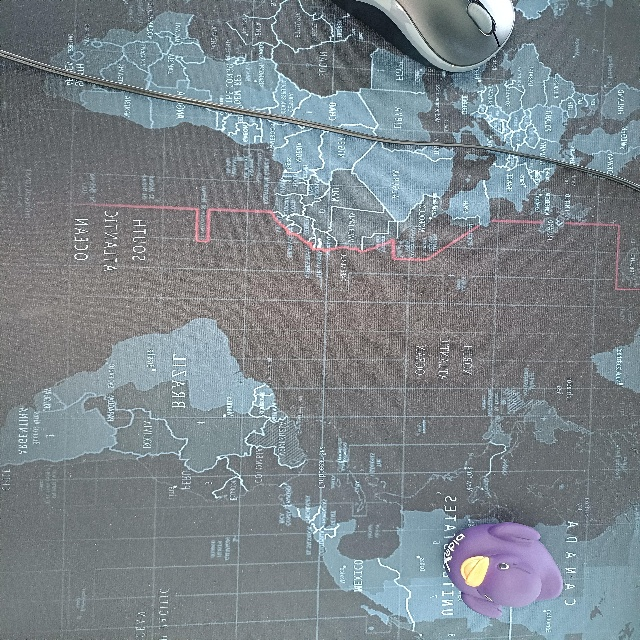led: (260, 405, 480, 530), (360, 395, 575, 420)
